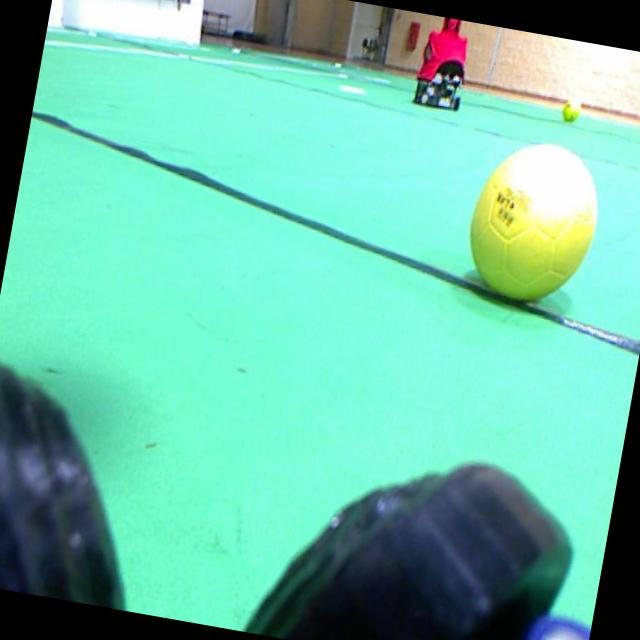ball: (469, 143, 596, 299), (562, 97, 580, 121)
goal: (186, 0, 203, 44), (47, 0, 62, 26)
